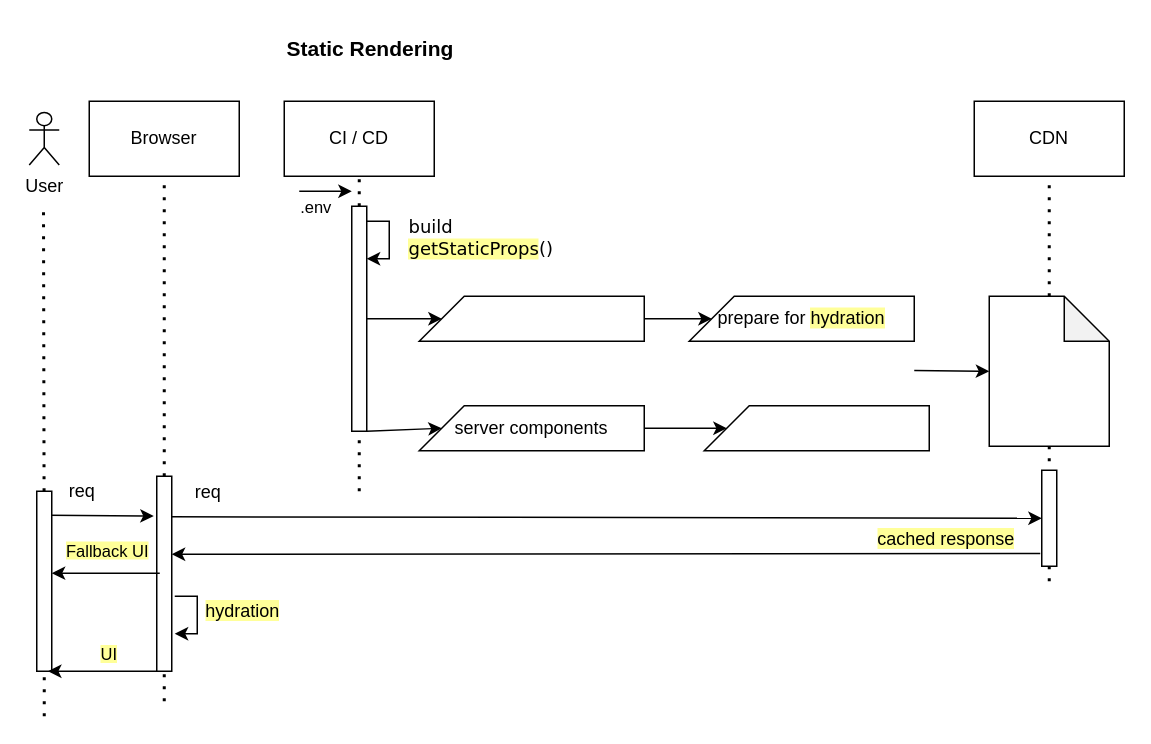
Some shapes in this 1151 by 744 pixel diagram are drawn without their labels. Here are the shapes that lost their labels. From the top down, the box of each, then its label:
(418, 295, 644, 341): client components
(988, 295, 1109, 446): Static Site
(703, 404, 929, 451): pre-render
